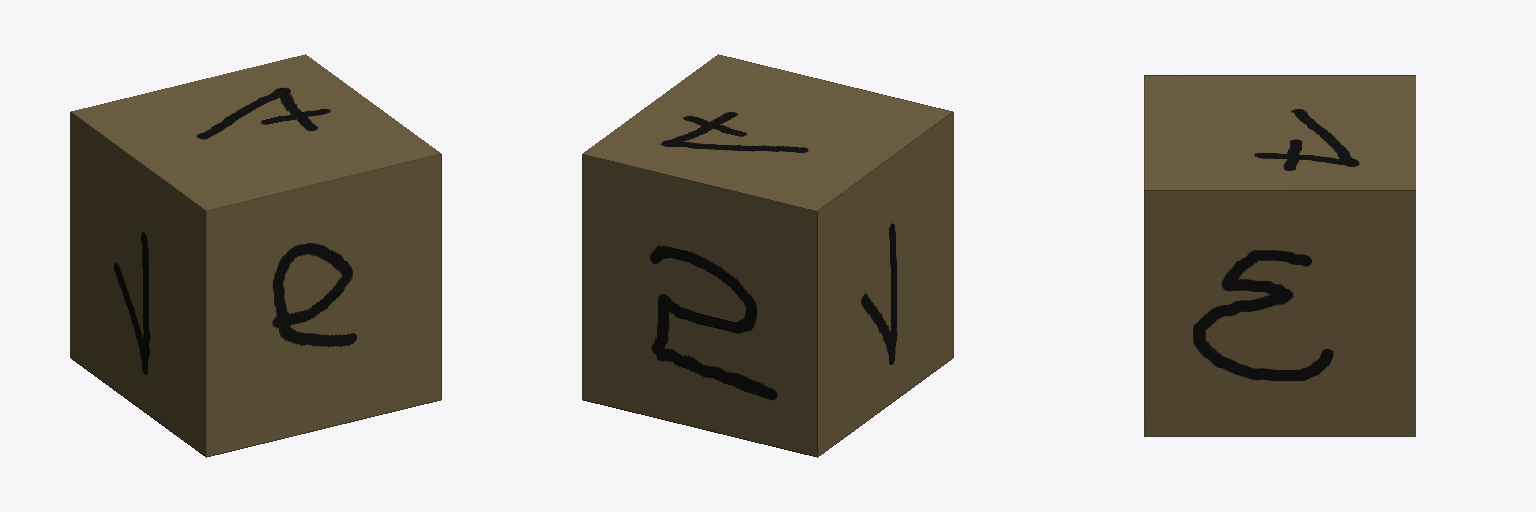
The picture shows the model from 3 angles: view 1: azimuth 30°, elevation 25°; view 2: azimuth 150°, elevation 25°; view 3: azimuth 270°, elevation 25°; orthographic projection.
Visible parts, largest first — view 1: Cube_Cube.003; view 2: Cube_Cube.003; view 3: Cube_Cube.003.
Boxes of the visible parts, box(x1,y1,x2,y2) form: Cube_Cube.003: box(70, 54, 441, 457); Cube_Cube.003: box(582, 54, 953, 457); Cube_Cube.003: box(1144, 75, 1415, 436).
Bounding box in the file's own units: 2 × 2 × 2.
Materials: 1 (1 with a texture image).